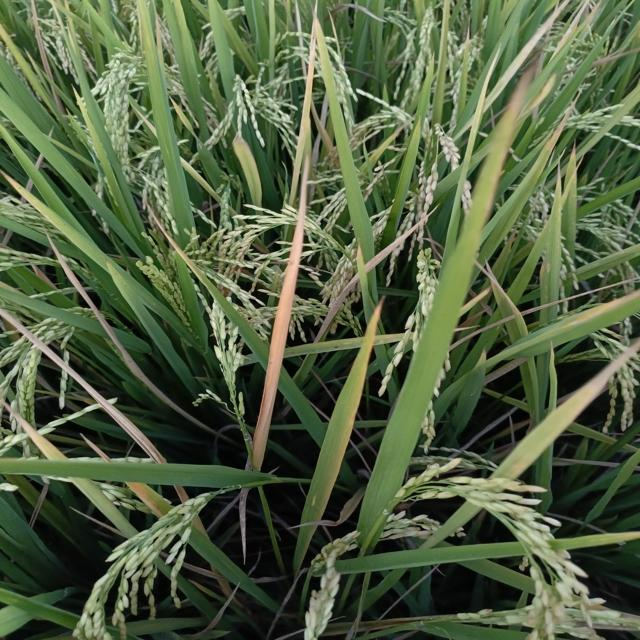Brown spot: (216, 134, 332, 511), (16, 310, 184, 534), (292, 23, 342, 118)
